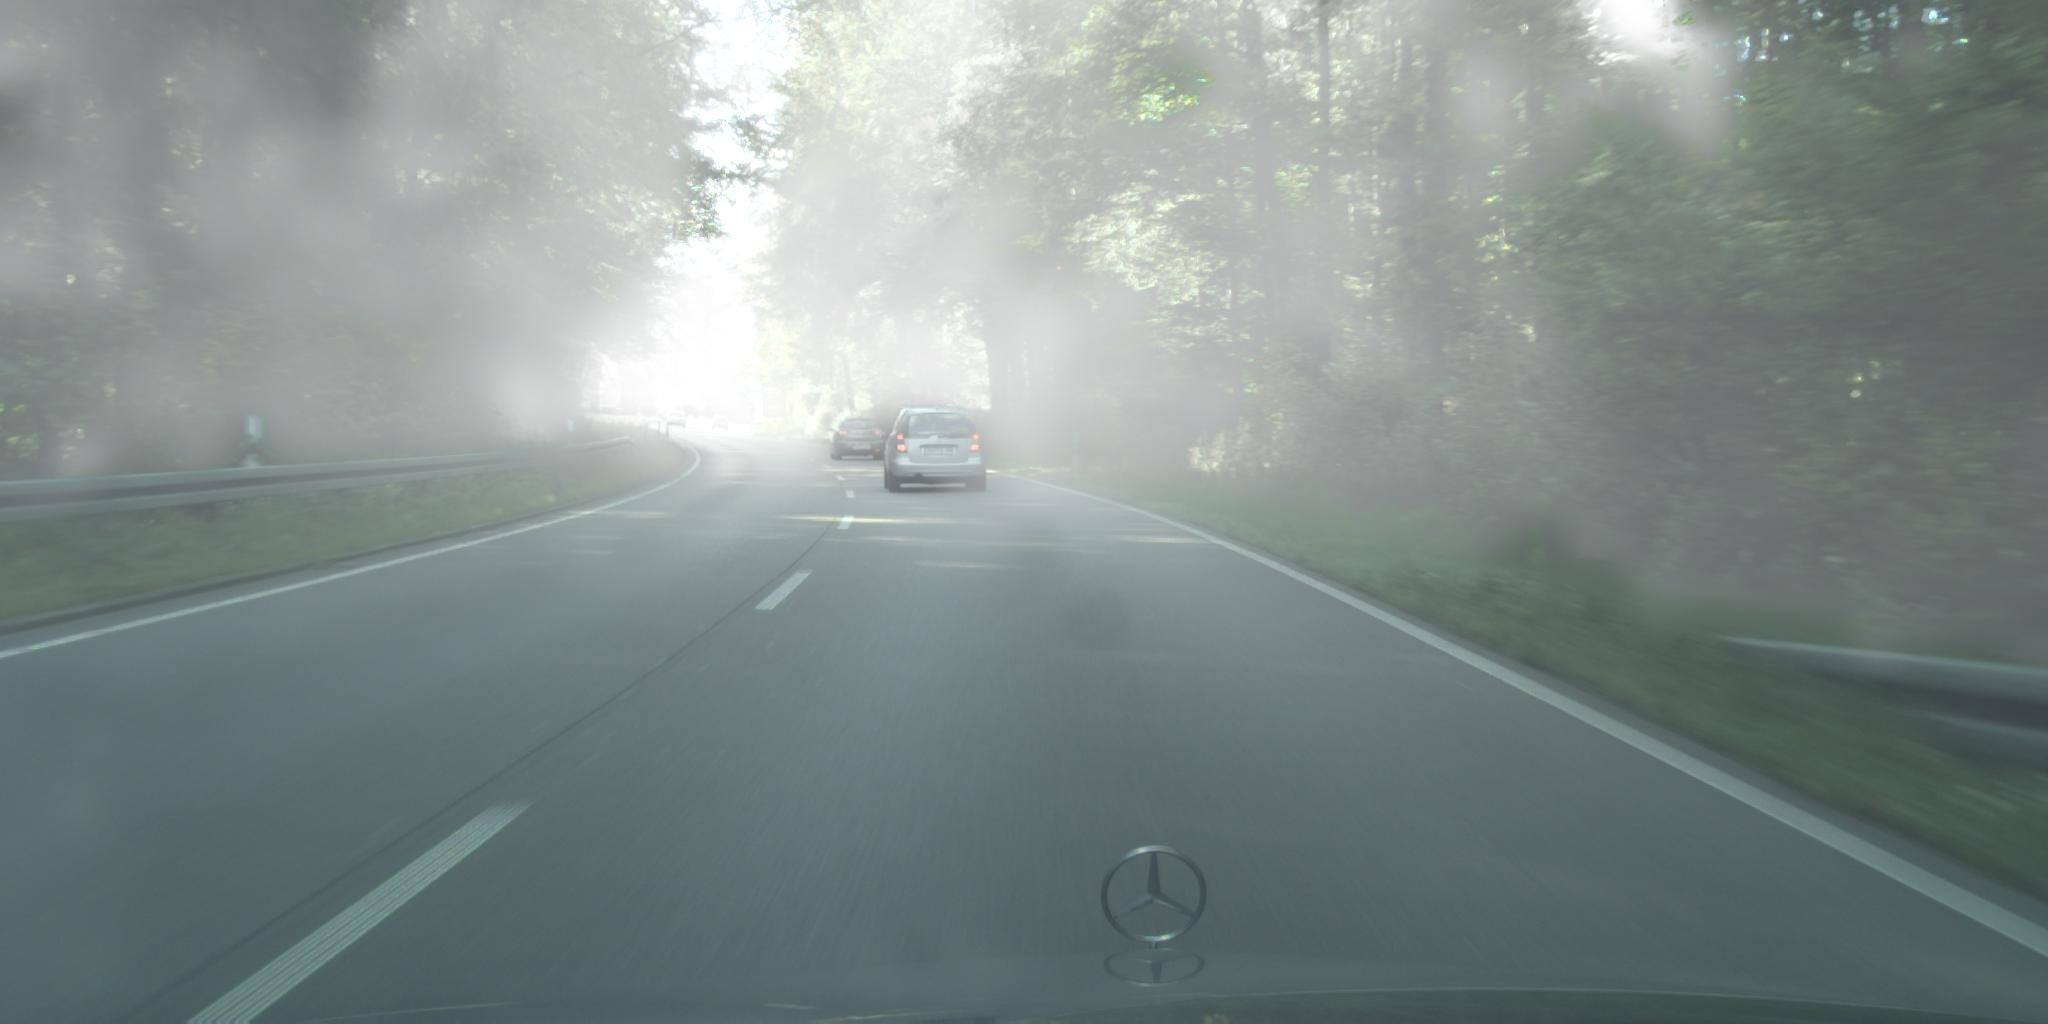car: (880, 406, 987, 492), (829, 419, 887, 461), (667, 410, 687, 428), (712, 415, 730, 430)
